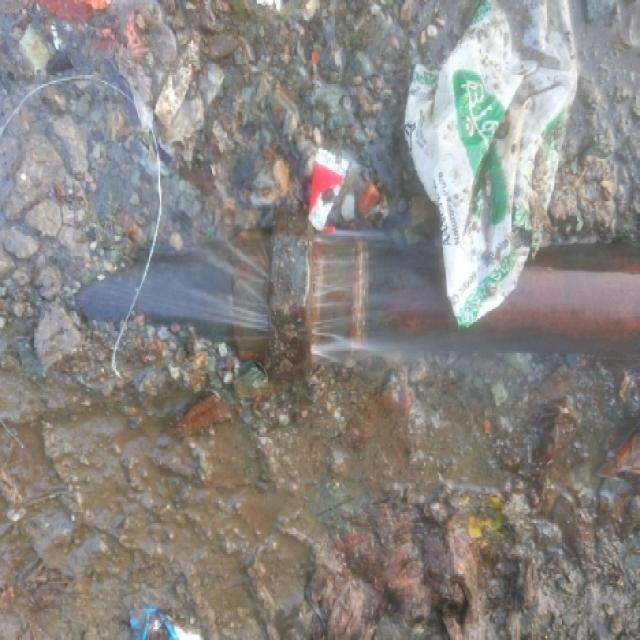leak: (109, 189, 280, 353), (297, 208, 437, 378)
